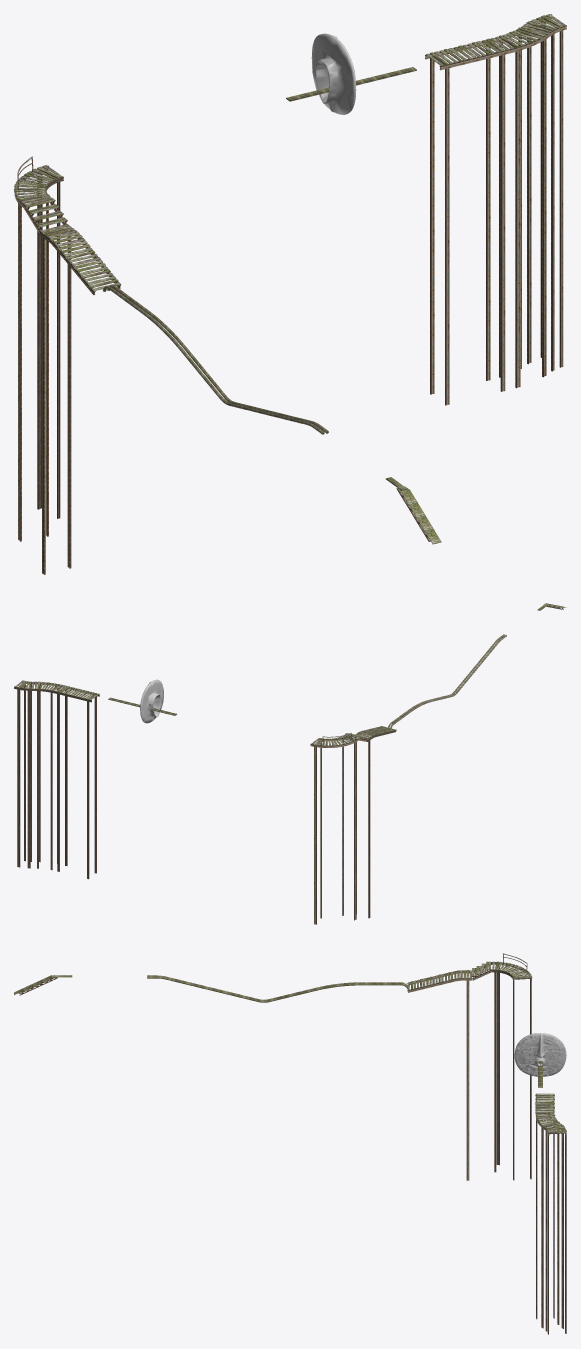
3 renders of one model, top to bottom at view 1: azimuth 30°, elevation 25°; view 2: azimuth 150°, elevation 25°; view 3: azimuth 270°, elevation 25°, orthographic. The views are drawn at different scales.
Parts seen in each view (by area): view 1: RAMP.003, RAMP.012, RAMP.001, RAMP.002, RAMP.013, plank mask, RAMP.021, RAMP.015, RAMP.022, RAMP.024; view 2: RAMP.003, RAMP.012, RAMP.001, RAMP.002, plank mask, RAMP.013, RAMP.021; view 3: RAMP.012, RAMP.002, RAMP.001, plank mask, RAMP.021, RAMP.013, RAMP.015.
Boxes of the visible parts, x1,y1,x2,y2 form: RAMP.003: [425, 38, 510, 405]; RAMP.012: [14, 165, 63, 541]; RAMP.001: [523, 14, 566, 371]; RAMP.002: [495, 26, 550, 388]; RAMP.013: [39, 224, 74, 574]; plank mask: [311, 33, 356, 114]; RAMP.021: [102, 284, 328, 434]; RAMP.015: [54, 238, 121, 294]; RAMP.022: [23, 197, 67, 233]; RAMP.024: [396, 486, 441, 544]; RAMP.003: [55, 685, 99, 879]; RAMP.012: [310, 735, 358, 924]; RAMP.001: [14, 680, 34, 868]; RAMP.002: [34, 681, 62, 870]; plank mask: [140, 679, 163, 723]; RAMP.013: [354, 733, 371, 918]; RAMP.021: [388, 634, 506, 728]; RAMP.012: [492, 961, 532, 1180]; RAMP.002: [535, 1114, 560, 1328]; RAMP.001: [544, 1123, 566, 1334]; plank mask: [514, 1033, 566, 1076]; RAMP.021: [147, 975, 407, 1002]; RAMP.013: [463, 970, 472, 1180]; RAMP.015: [407, 971, 454, 992].
Bounding box in the file's own units: 4234 × 2777 × 5760.
